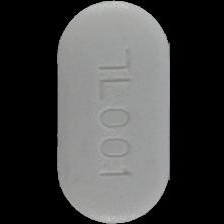68788-6780: (0, 0, 224, 224)
